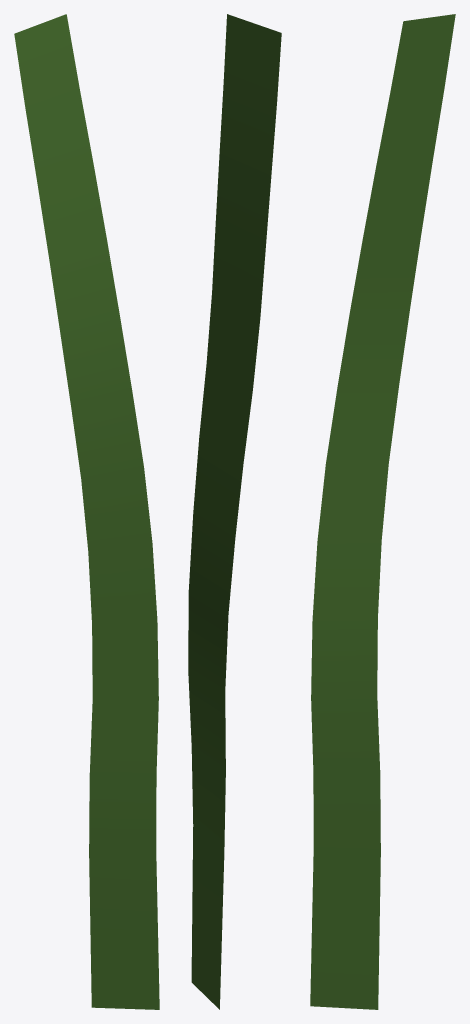
The model's file is plant_swamp_kelp_giant_A_solo_H.fbx.
The picture shows the model from 3 angles, left to right: view 1: azimuth 90°, elevation 25°; view 2: azimuth 210°, elevation 25°; view 3: azimuth 270°, elevation 25°; orthographic projection.
Visible parts, largest first — view 1: plant_swamp_kelp_giant_A_solo_H; view 2: plant_swamp_kelp_giant_A_solo_H; view 3: plant_swamp_kelp_giant_A_solo_H.
Boxes of the visible parts, x1,y1,x2,y2 form: plant_swamp_kelp_giant_A_solo_H: (14, 14, 159, 1009); plant_swamp_kelp_giant_A_solo_H: (188, 14, 281, 1009); plant_swamp_kelp_giant_A_solo_H: (310, 14, 455, 1009).
Size of the model in its own units: 8.94 by 286 by 38.1.
